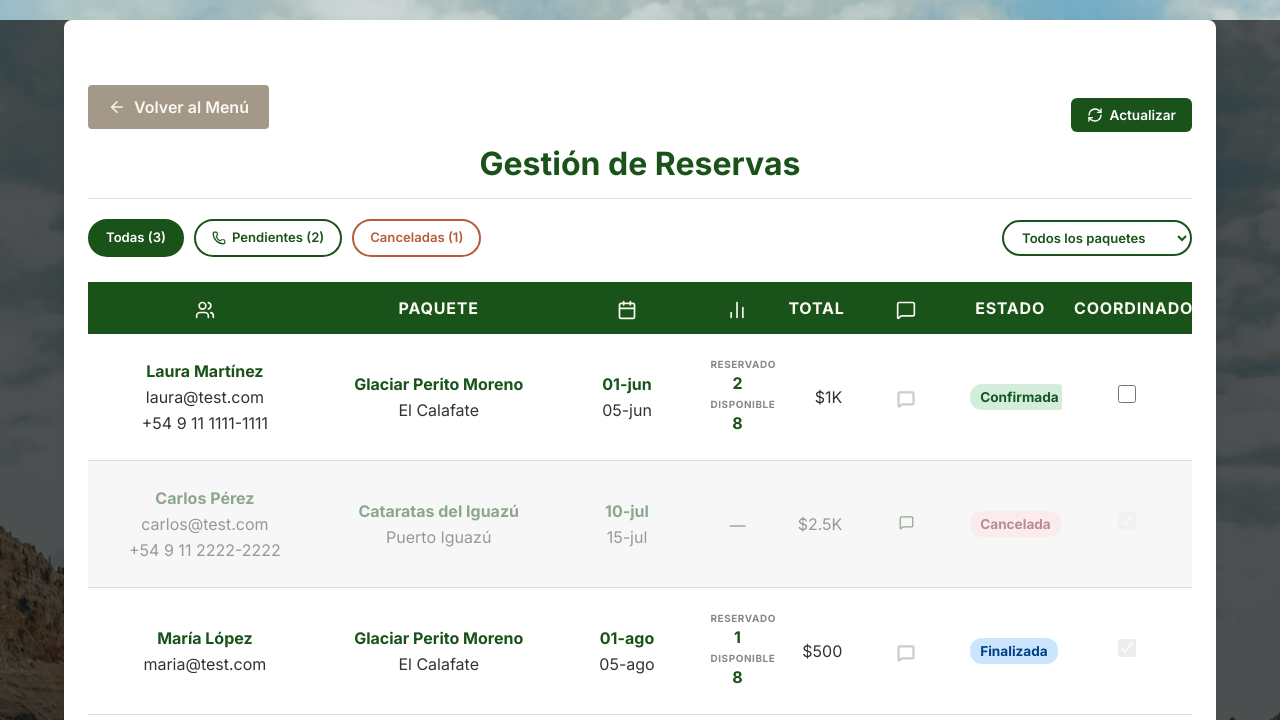
AdminBookingList › should filter bookings by package using the select dropdown
The image size is (1280, 720).
Expected: the text "Laura Martínez" is shown, [146,361,264,381]
Select "Cataratas del Iguazú" in the dropdown titled "Filtrar por paquete": point(1097, 238) [1002,220,1192,256]
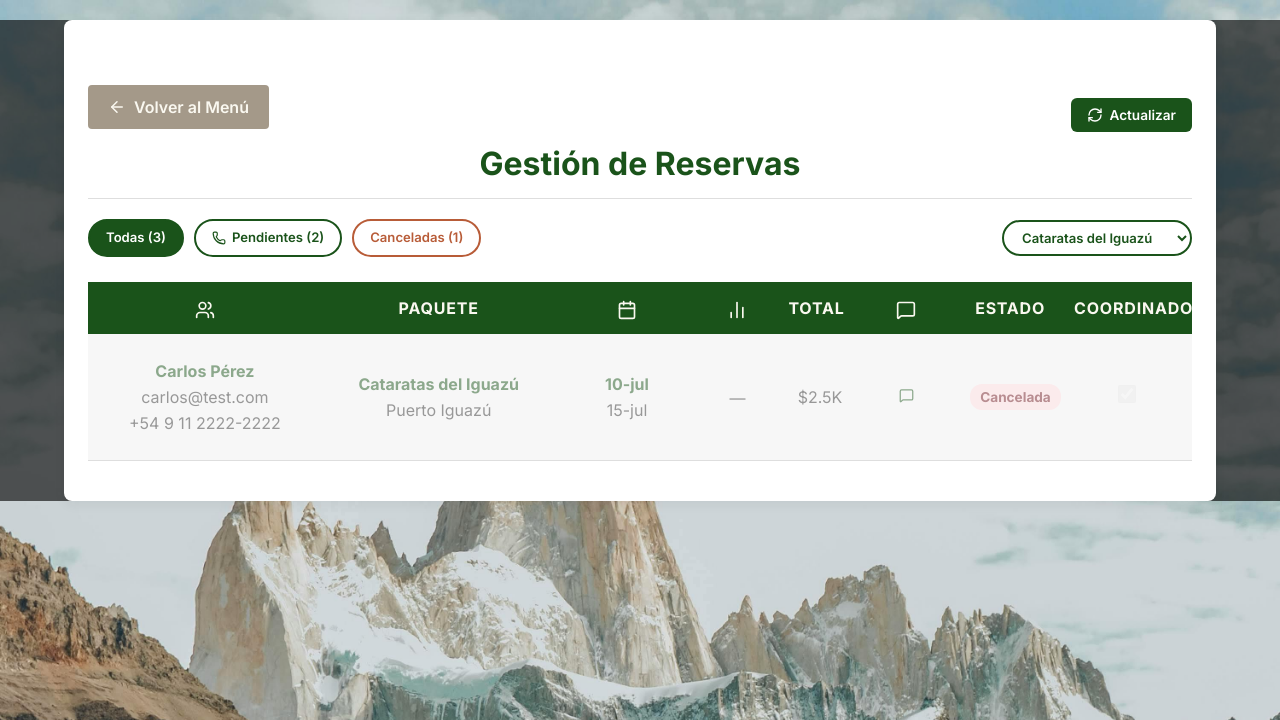
Expected: the text "Carlos Pérez" is shown, [155,361,254,381]
Expected: the text "Laura Martínez" is gone
